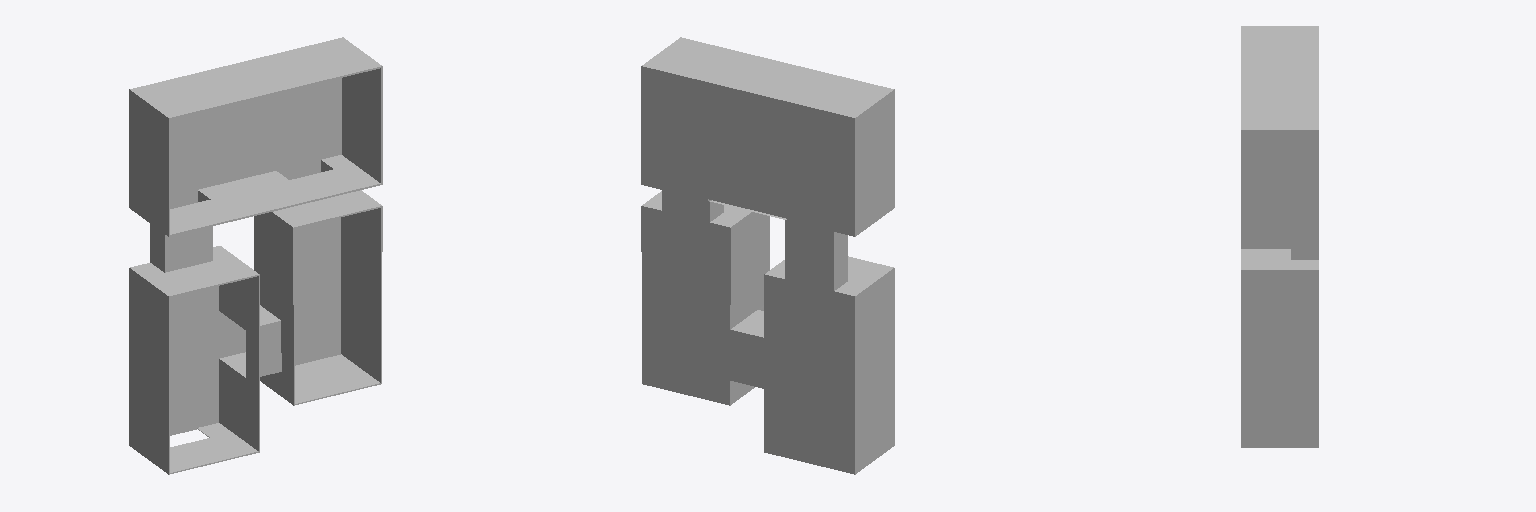
Rendered from Galeria.obj.
3 views of the same model, side by side, from view 1: azimuth 30°, elevation 25°; view 2: azimuth 150°, elevation 25°; view 3: azimuth 270°, elevation 25° (orthographic).
Visible parts, largest first — view 1: obj81, obj51, obj2, obj69, obj25, obj13, obj52, obj56, obj45, obj9, obj26, obj5 (+9 smaller); view 2: obj81, obj51, obj2, obj52, obj45, obj9, obj49, obj60, obj68, obj35; view 3: obj32, obj50, obj51, obj68.
Boxes of the visible parts, box(x1,y1,x2,y2) form: obj81: box(170, 78, 341, 435); obj51: box(130, 37, 381, 117); obj2: box(129, 268, 168, 474); obj69: box(170, 155, 380, 234); obj25: box(341, 208, 380, 382); obj13: box(219, 276, 258, 450); obj52: box(129, 89, 168, 236); obj56: box(342, 68, 380, 182); obj45: box(254, 212, 293, 329); obj9: box(130, 246, 258, 295); obj26: box(295, 354, 379, 403); obj5: box(170, 423, 257, 472); obj81: box(643, 68, 853, 472); obj51: box(642, 37, 893, 117); obj2: box(855, 268, 894, 474); obj52: box(855, 89, 894, 236); obj45: box(730, 212, 769, 329); obj9: box(765, 256, 893, 295); obj49: box(641, 66, 854, 236); obj60: box(834, 232, 847, 290); obj68: box(642, 191, 750, 227); obj35: box(731, 310, 763, 337); obj32: box(1241, 271, 1318, 445); obj50: box(1241, 130, 1318, 248); obj51: box(1241, 26, 1318, 129); obj68: box(1241, 249, 1318, 269).
Bounding box in the file's own units: 741 × 1181 × 236.